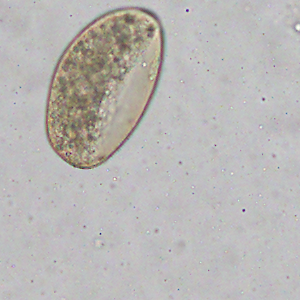Fasciola_hepatica_egg: (44, 5, 165, 171)
